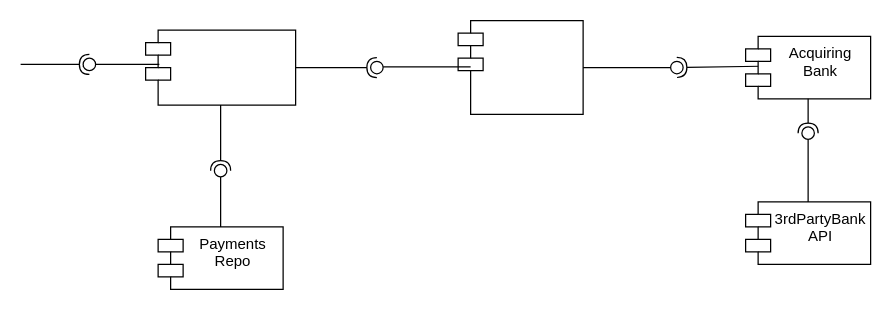
Some shapes in this 891 by 310 pixel diagram are drawn without their labels. The box of each missing label's shape, as (x1, y1, x2, y2) in pixels:
Payment Gateway: (144, 29, 296, 105)
Payment Processor Adapter: (457, 19, 583, 114)
